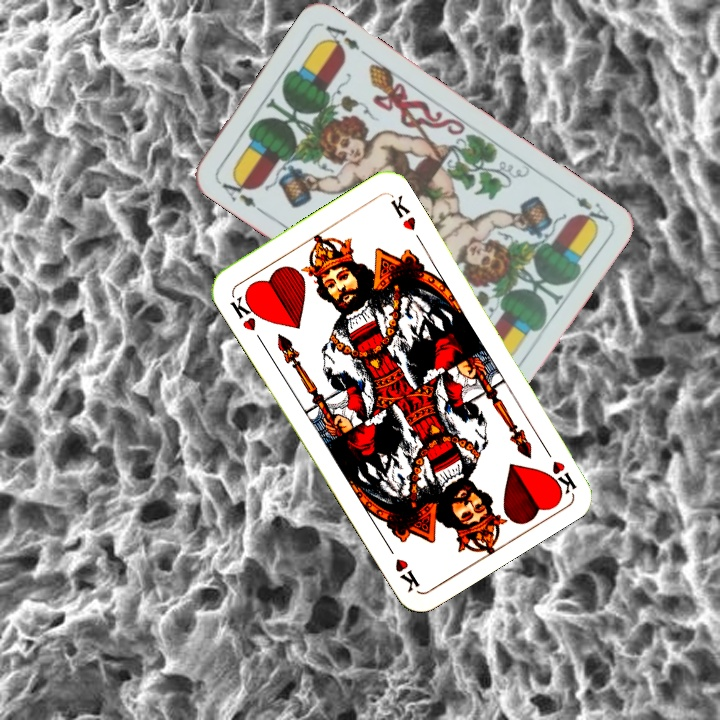EA: (560, 185, 612, 230), (213, 173, 265, 216)
HK: (538, 440, 579, 496), (225, 289, 263, 334)
